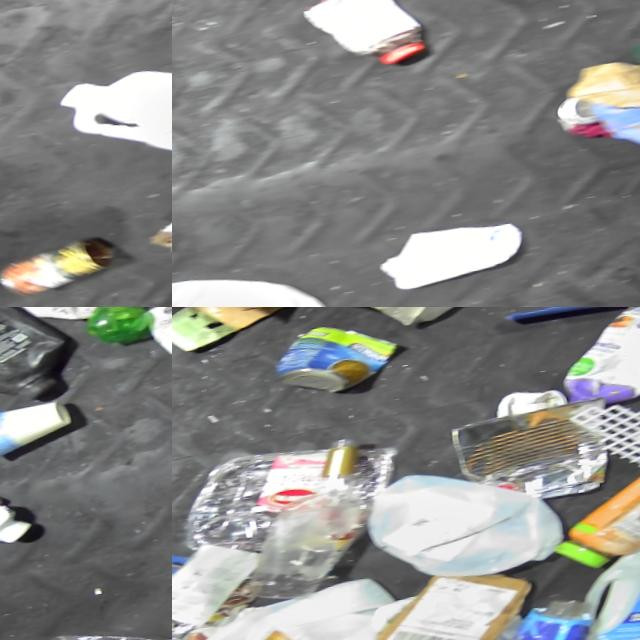can: (447, 407, 612, 525), (270, 318, 403, 410), (0, 235, 122, 304), (144, 307, 172, 368), (556, 105, 599, 141)
milk_jug: (363, 457, 567, 604), (55, 42, 172, 194), (172, 579, 403, 640), (568, 528, 640, 640), (172, 258, 334, 307), (312, 307, 497, 348)
non_white_jug: (556, 307, 640, 423), (0, 307, 74, 410)
plastic_bottle: (233, 483, 375, 613), (12, 612, 172, 640)
